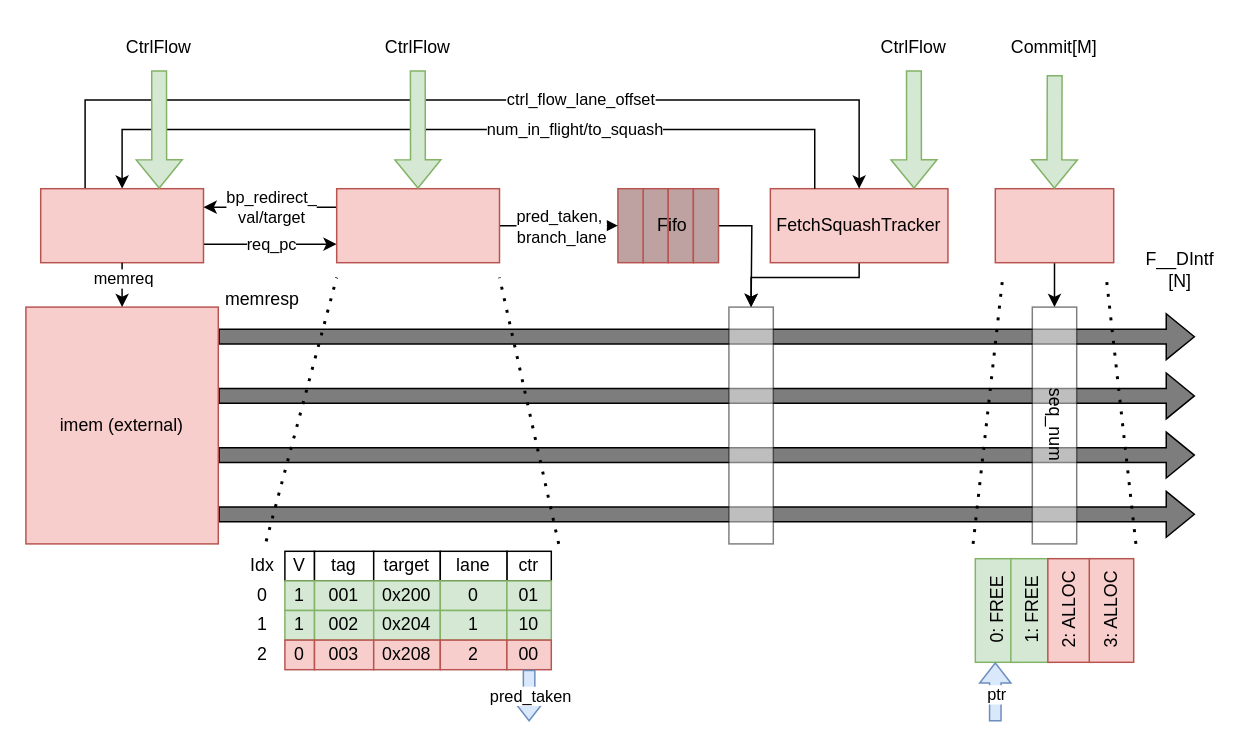
The diagram is 1251 pixels wide and 746 high, and some of its shapes have lost their labels. Each missing label, with the centre of its shape:
BranchPredictor: point 417,225
FetchAddrGen: point 121,225
lane_active: point 750,425
seq_num_gen: point 1054,225
